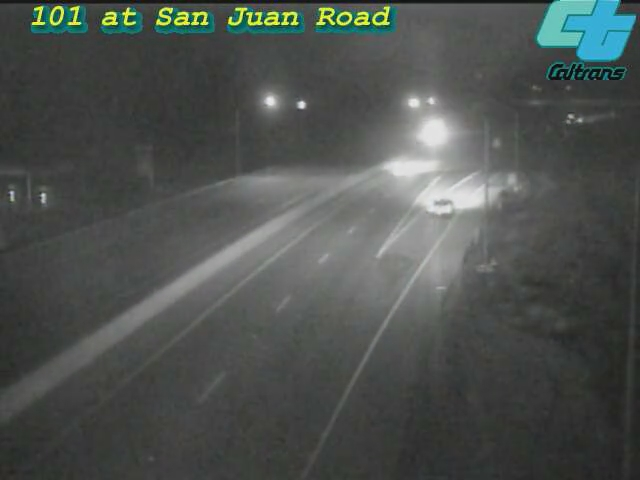vehicle: (369, 127, 449, 207), (401, 169, 481, 249), (407, 104, 457, 154), (549, 93, 599, 143)
